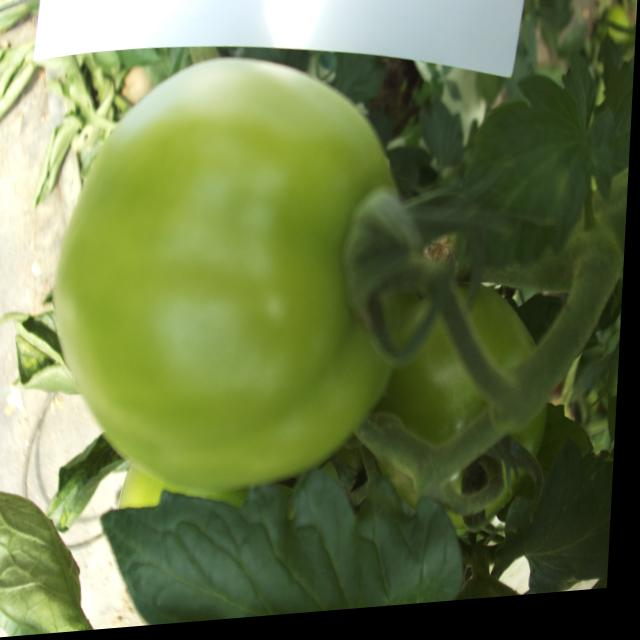yesil: (54, 46, 437, 523)
